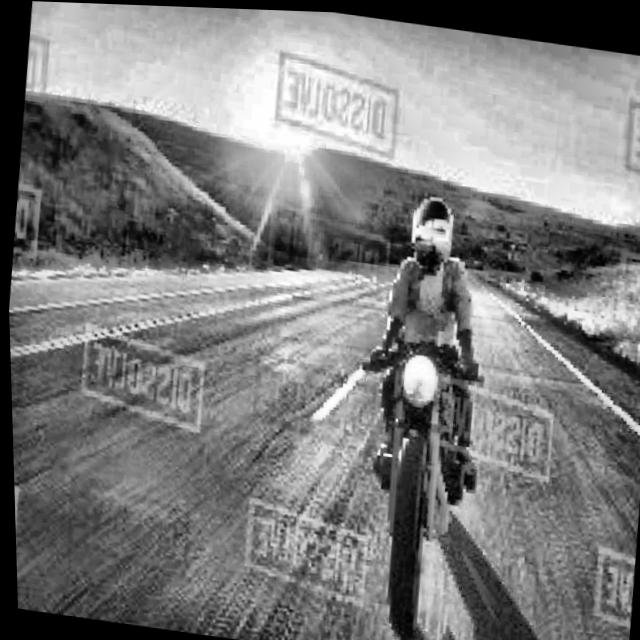motorcycle: (336, 311, 496, 635)
